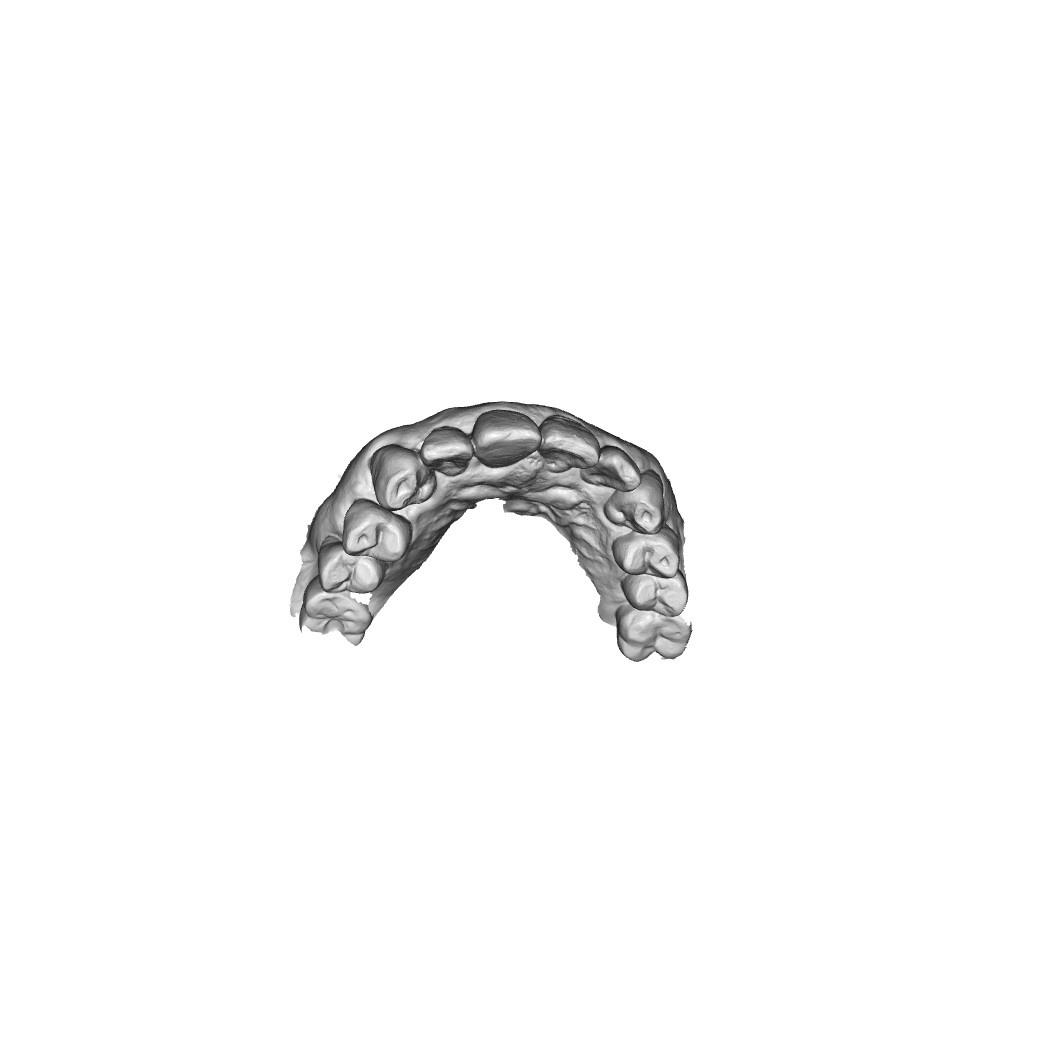canine: (366, 445, 441, 510), (602, 471, 671, 533)
incisor: (472, 407, 538, 469), (537, 414, 598, 472), (579, 445, 644, 493), (419, 425, 473, 476)
molar: (294, 576, 375, 642), (614, 607, 692, 664)
premolar: (341, 497, 416, 564), (316, 538, 383, 599), (610, 529, 686, 577), (618, 572, 690, 617)
